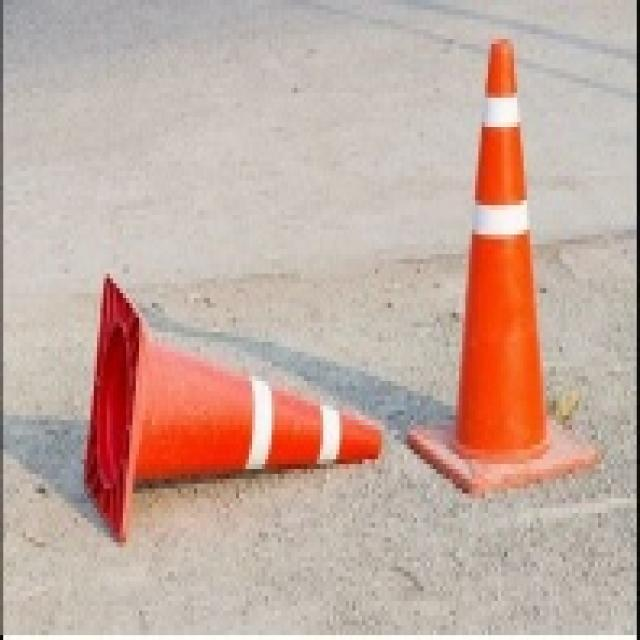cone: (62, 260, 391, 538), (430, 39, 572, 513)
